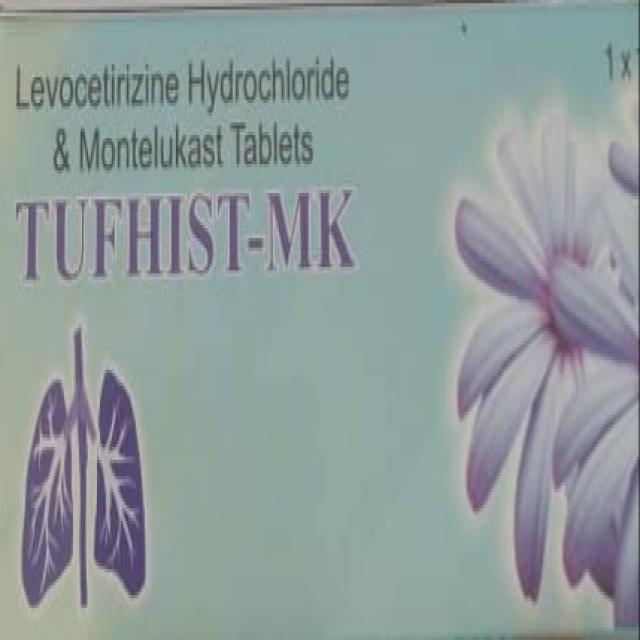drug-name: (14, 188, 362, 282)
